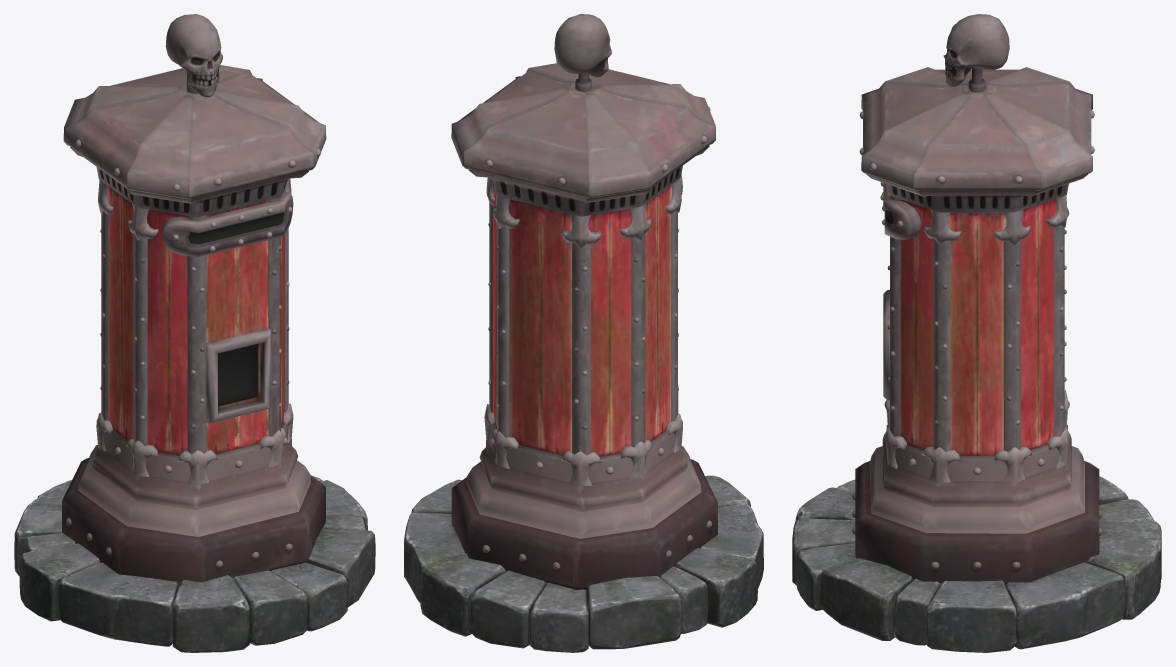
3 renders of one model, left to right at view 1: azimuth 30°, elevation 25°; view 2: azimuth 150°, elevation 25°; view 3: azimuth 270°, elevation 25°, orthographic.
Visible parts, largest first — view 1: SM_Postbox_LOD0; view 2: SM_Postbox_LOD0; view 3: SM_Postbox_LOD0.
Part boxes in pixels (left/top/right/bottom): SM_Postbox_LOD0: left=14, top=14, right=375, bottom=652; SM_Postbox_LOD0: left=404, top=14, right=763, bottom=652; SM_Postbox_LOD0: left=792, top=14, right=1161, bottom=652.
Size of the model in its own units: 1.53 by 2.59 by 1.54.
Materials: 1 (1 with a texture image).
